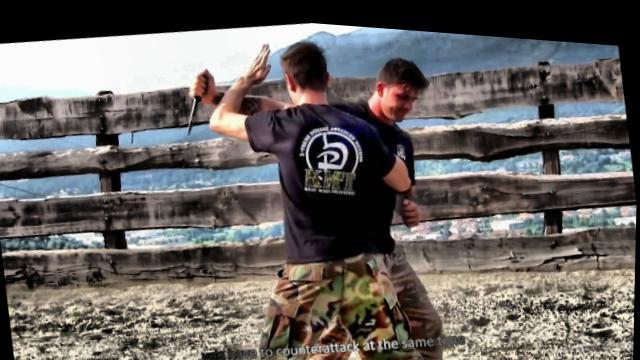knife: (173, 61, 218, 138)
